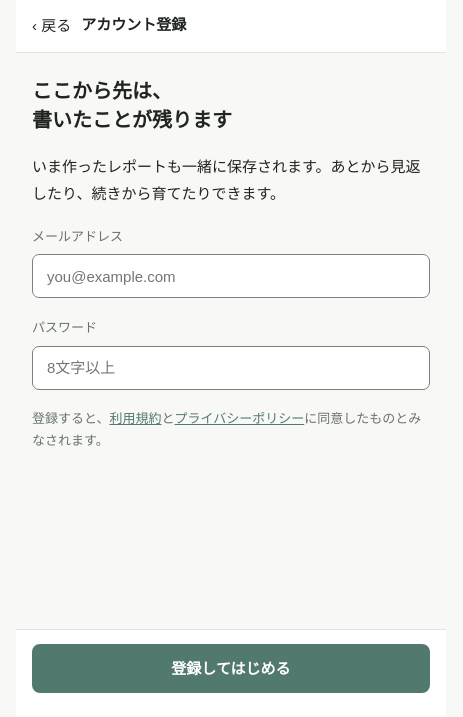
S-21 › 弱いパスワードで失敗したら同じ画面にエラーを表示する
The width and height of the screenshot is (463, 717).
Type "user@example.com" into the field with id "s21-email" at (231, 276), box [32,254,430,298]
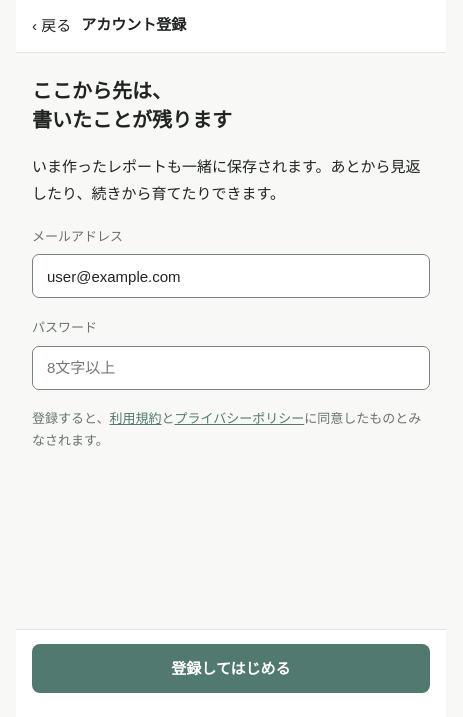
Type "password" into the password field with id "s21-password" at (231, 368), box [32,346,430,390]
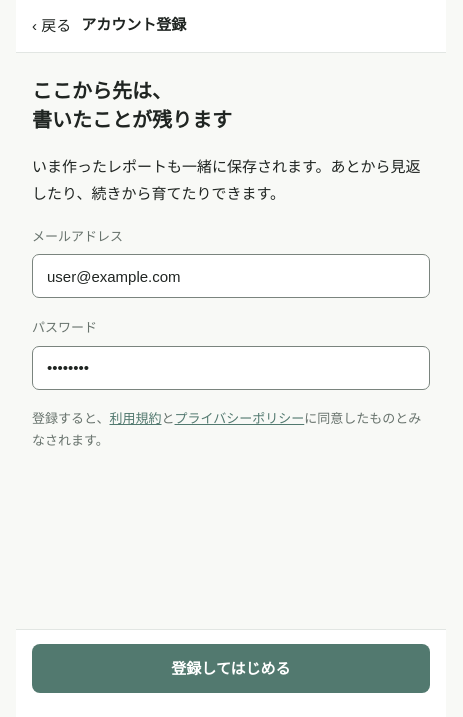
Submit the form
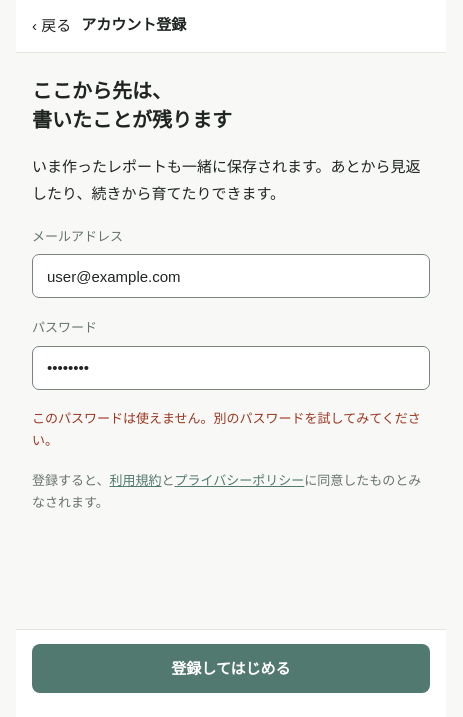
Check: the text "このパスワードは使えません" is shown, box [32,411,421,448]
